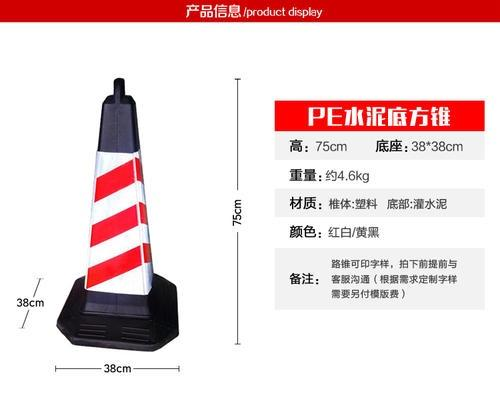cone_barrel: (58, 87, 182, 350)
